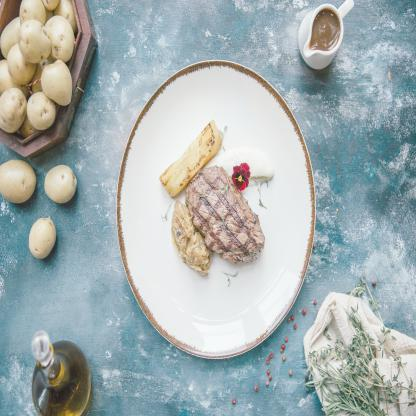Carne: (183, 165, 273, 264)
